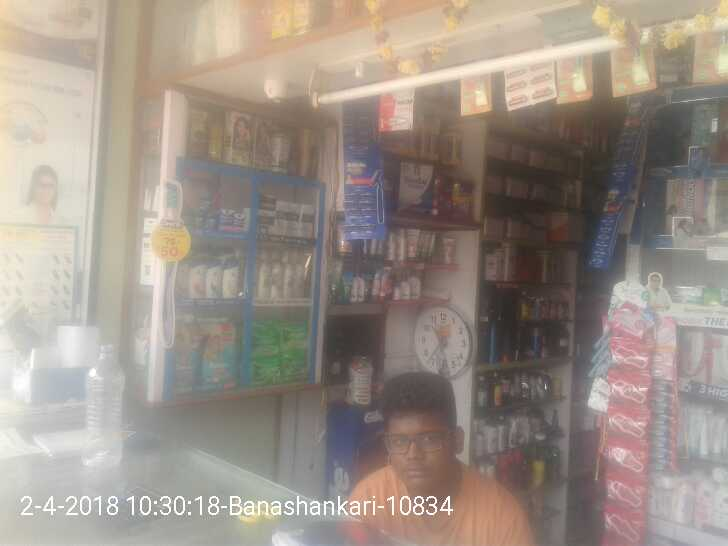vicks: (218, 203, 233, 231), (233, 215, 246, 231)
